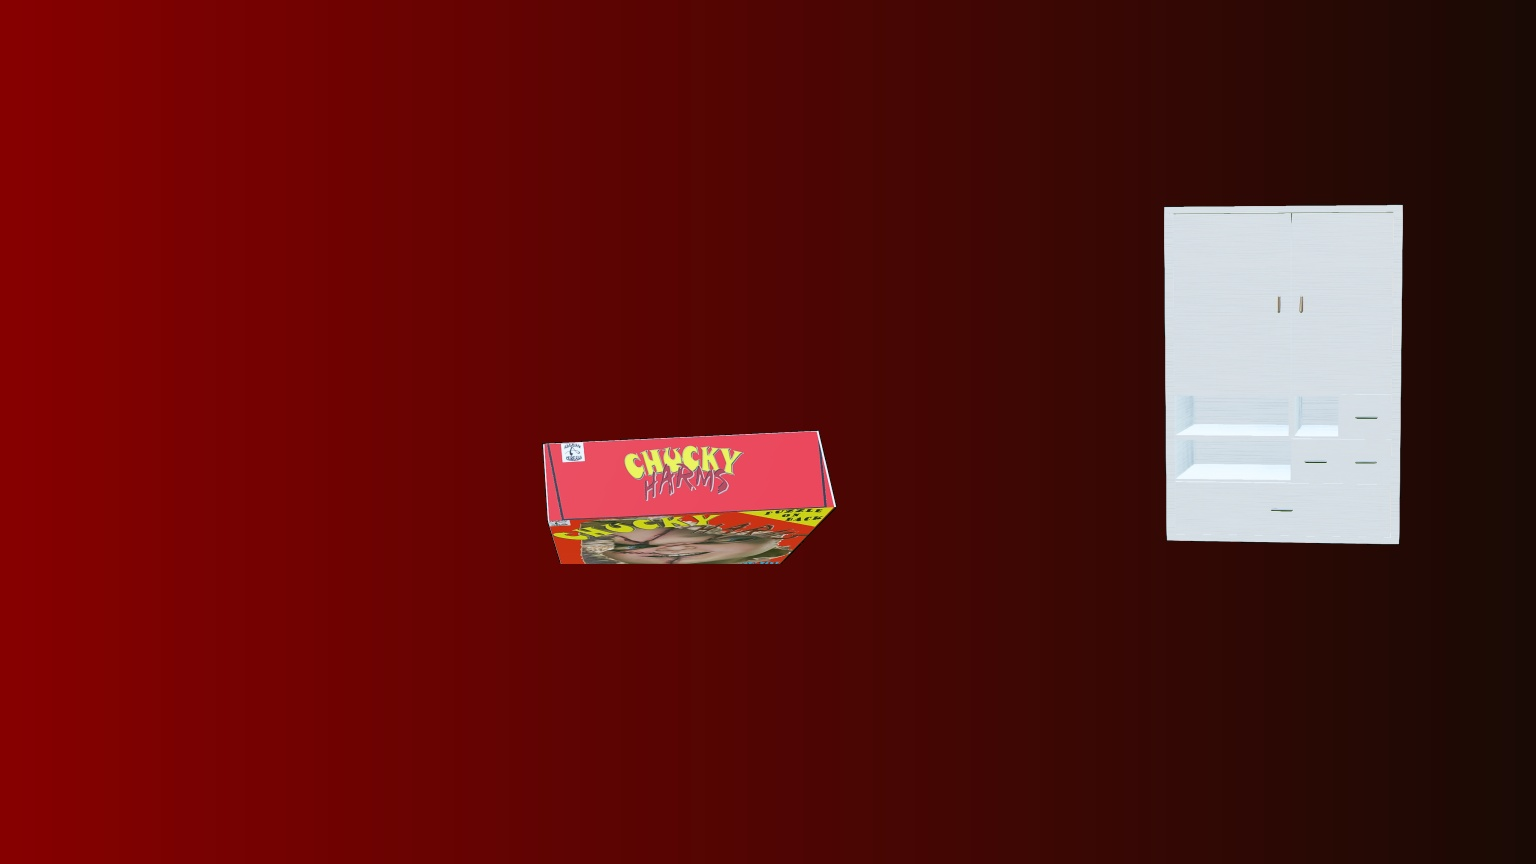armario: (1163, 204, 1404, 545)
caja: (542, 430, 837, 564)
